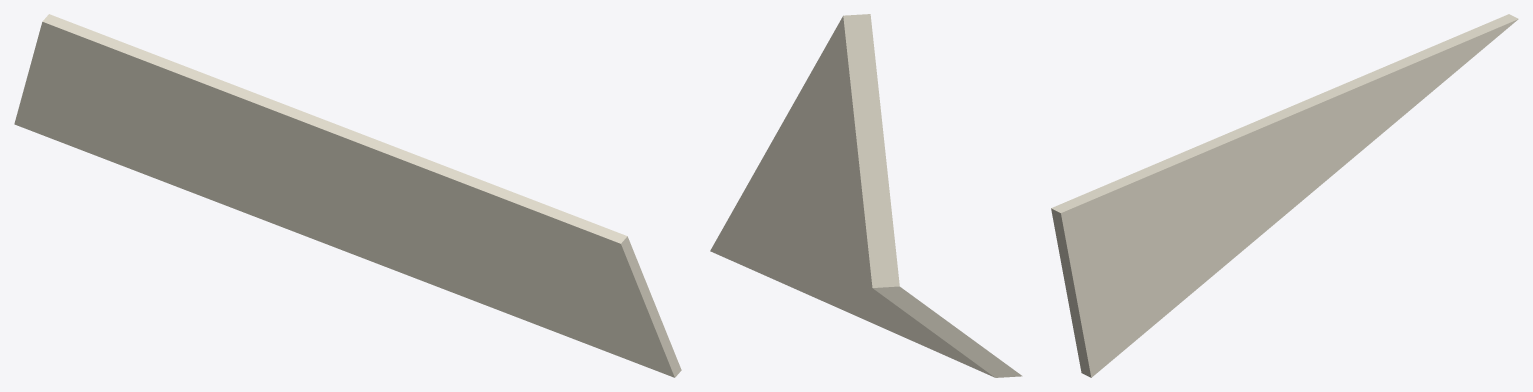
3 renders of one model, left to right at view 1: azimuth 30°, elevation 25°; view 2: azimuth 150°, elevation 25°; view 3: azimuth 270°, elevation 25°, orthographic. The views are drawn at different scales.
Visible parts, largest first — view 1: ZA_71774bbd5ed5dd72; view 2: ZA_71774bbd5ed5dd72; view 3: ZA_71774bbd5ed5dd72.
Boxes of the visible parts, box(x1,y1,x2,y2) form: ZA_71774bbd5ed5dd72: box(14, 14, 681, 377); ZA_71774bbd5ed5dd72: box(710, 14, 1022, 377); ZA_71774bbd5ed5dd72: box(1051, 14, 1518, 377).
Bounding box in the file's own units: 0.0134 × 0.00745 × 0.015.
